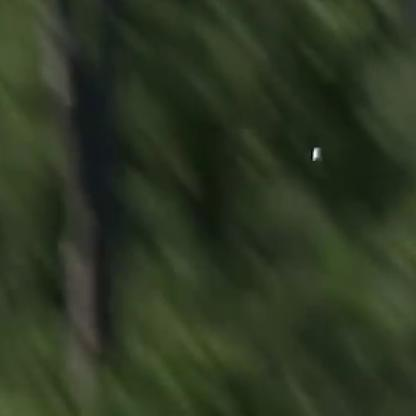golfball: (309, 143, 320, 159)
